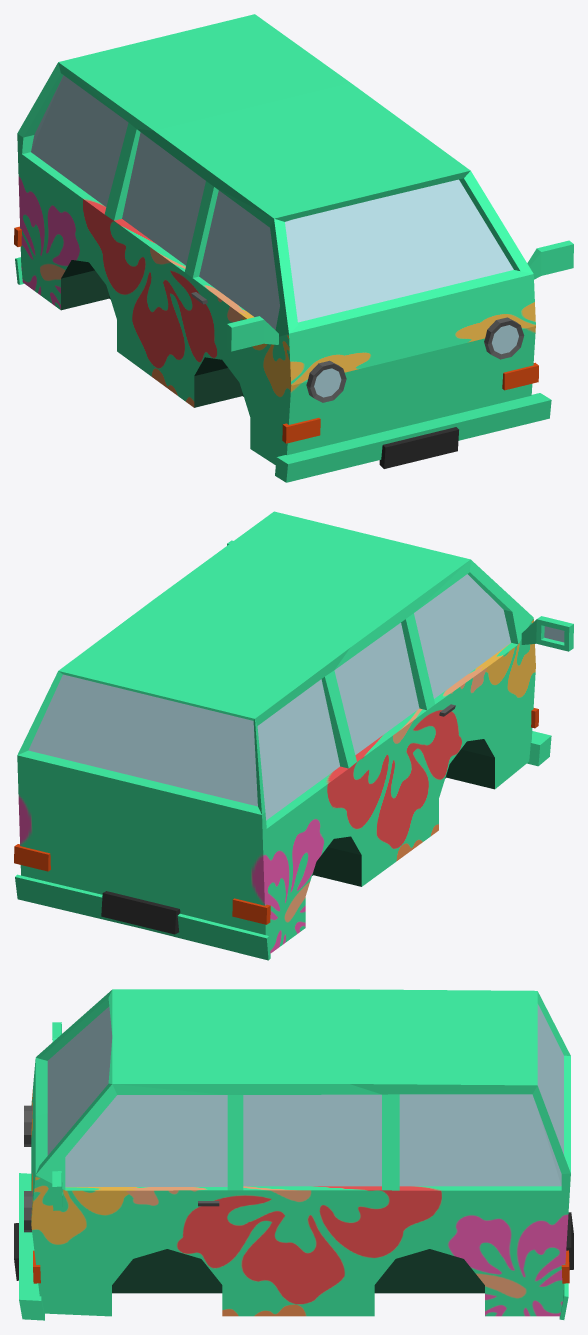
File: hippievan.fbx
3 views of the same model, one above another, from view 1: azimuth 30°, elevation 25°; view 2: azimuth 150°, elevation 25°; view 3: azimuth 270°, elevation 25° (orthographic).
Parts seen in each view (by area): view 1: car; view 2: car; view 3: car.
Boxes of the visible parts, x1=… form: car: x1=14, y1=14, x2=573, y2=482; car: x1=14, y1=511, x2=573, y2=960; car: x1=14, y1=989, x2=573, y2=1320.
Size of the model in its own units: 2.8 by 1.8 by 4.02.
